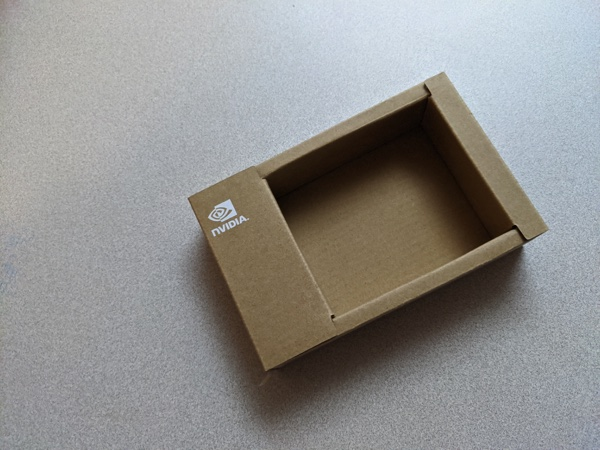cardboard: (176, 55, 566, 407)
